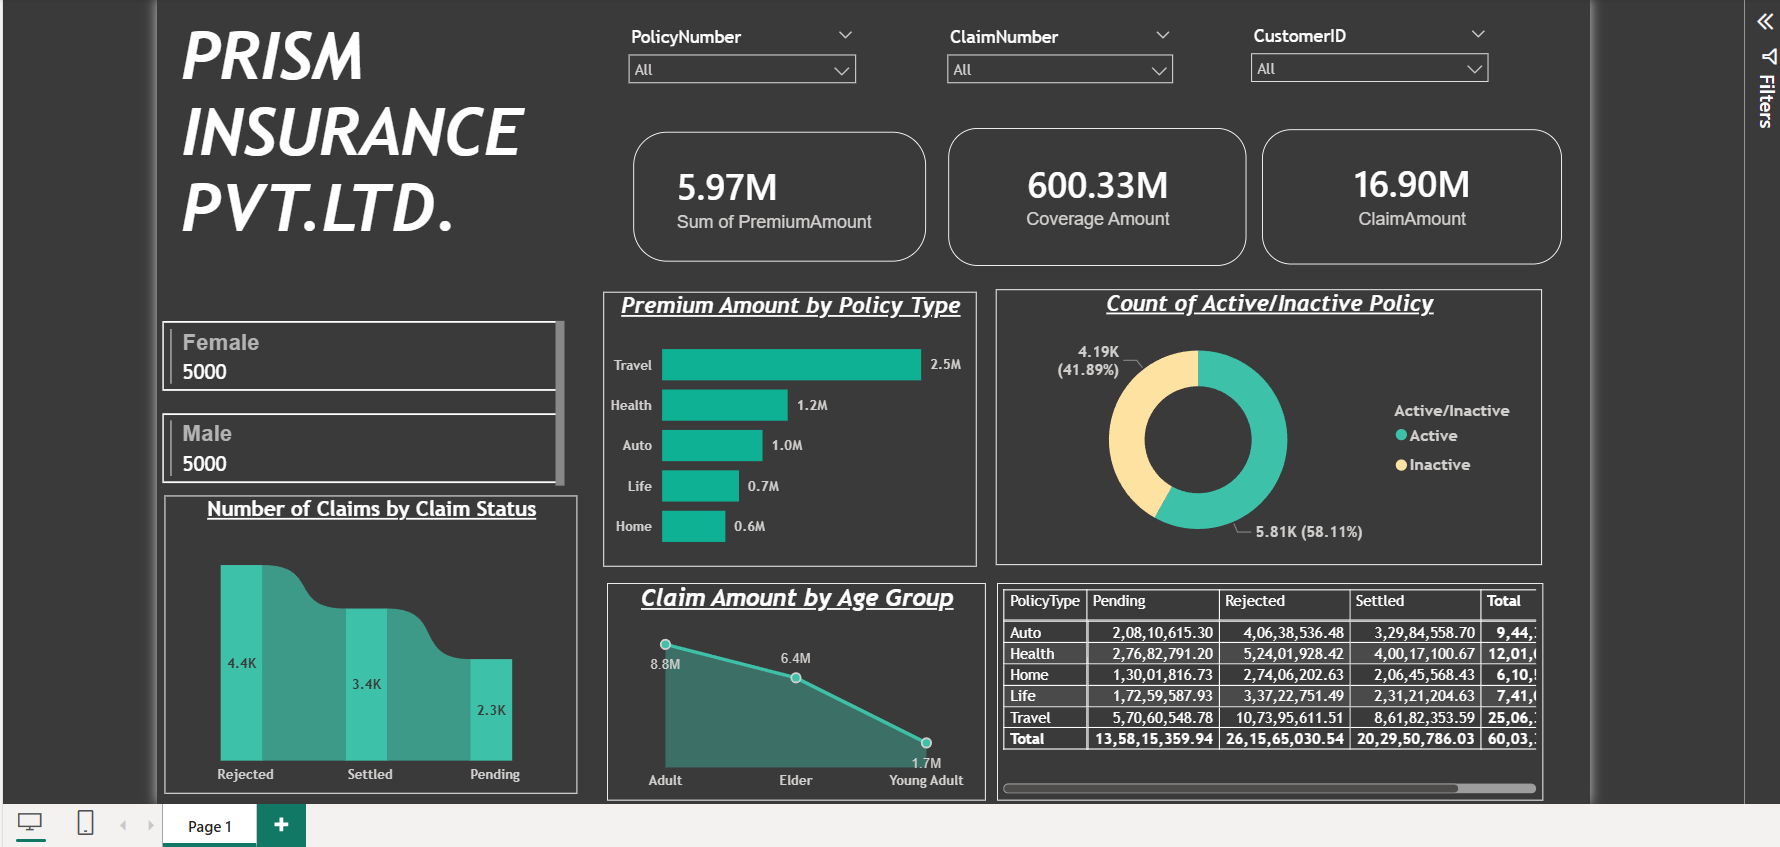

What the dashboard file says about the page in this screenshot:
{"tool":"powerbi","page":{"name":"Page 1","canvas":[1280,720],"ordinal":0},"visuals":[{"type":"slicer","fields":{"Values":["InsuranceData.PolicyNumber"]},"box":[410.5,19.8,223.3,81.4],"z":0},{"type":"slicer","fields":{"Values":["InsuranceData.ClaimNumber"]},"box":[696,20.5,222.1,81.4],"z":1000},{"type":"slicer","fields":{"Values":["InsuranceData.CustomerID"]},"box":[967.4,19.3,232.6,81.4],"z":2000},{"type":"textbox","box":[17.2,12.8,368.6,226.7],"z":3000},{"type":"cardVisual","fields":{"Data":["Sum(InsuranceData.CoverageAmount)"]},"box":[707,116,266.3,123.5],"z":4000},{"type":"cardVisual","fields":{"Data":["Sum(InsuranceData.PremiumAmount)"]},"box":[425.6,119.8,261.6,116.3],"z":5000},{"type":"cardVisual","fields":{"Data":["Sum(InsuranceData.ClaimAmount)"]},"box":[987.2,117.4,267.9,120.9],"z":6000},{"type":"multiRowCard","fields":{"Values":["InsuranceData.Gender","CountNonNull(InsuranceData.Gender)"]},"box":[0,284,368.6,168.6],"z":7000},{"type":"ribbonChart","title":"Number of Claims  by Claim Status","fields":{"Category":["InsuranceData.ClaimStatus"],"Y":["CountNonNull(InsuranceData.ClaimStatus)"]},"box":[6.5,444,368.6,266.3],"z":8000},{"type":"barChart","title":"Premium Amount by Policy Type","fields":{"Category":["InsuranceData.PolicyType"],"Y":["Sum(InsuranceData.PremiumAmount)"]},"box":[398.4,262.8,333.7,245.3],"z":9000},{"type":"lineChart","title":" Claim Amount by Age Group ","fields":{"Category":["InsuranceData.Age Group "],"Y":["Sum(InsuranceData.ClaimAmount)"]},"box":[402.3,522.6,338.4,194.2],"z":10000},{"type":"donutChart","title":"Count of Active/Inactive Policy","fields":{"Category":["InsuranceData.Active/Inactive"],"Y":["CountNonNull(InsuranceData.Active/Inactive)"]},"box":[749.8,260,488.4,246.5],"z":11000},{"type":"pivotTable","fields":{"Values":["Sum(InsuranceData.CoverageAmount)"],"Rows":["InsuranceData.PolicyType"],"Columns":["InsuranceData.ClaimStatus"]},"box":[750,523,488,194],"z":12000}]}

Visuals, with their boxes on the page's 1280x720 design canvas (x1, y1, x2, y2). These are canvas units, not pixel positions in the 1780x847 screenshot, which may show the page scaled, cropped or inside an application window:
slicer - InsuranceData.PolicyNumber: <box>410,20,634,101</box>
slicer - InsuranceData.ClaimNumber: <box>696,20,918,102</box>
slicer - InsuranceData.CustomerID: <box>967,19,1200,101</box>
textbox: <box>17,13,386,240</box>
cardVisual - Sum(InsuranceData.CoverageAmount): <box>707,116,973,240</box>
cardVisual - Sum(InsuranceData.PremiumAmount): <box>426,120,687,236</box>
cardVisual - Sum(InsuranceData.ClaimAmount): <box>987,117,1255,238</box>
multiRowCard - InsuranceData.Gender x CountNonNull(InsuranceData.Gender): <box>0,284,369,453</box>
"Number of Claims  by Claim Status" ribbonChart: <box>6,444,375,710</box>
"Premium Amount by Policy Type" barChart: <box>398,263,732,508</box>
" Claim Amount by Age Group " lineChart: <box>402,523,741,717</box>
"Count of Active/Inactive Policy" donutChart: <box>750,260,1238,506</box>
pivotTable - Sum(InsuranceData.CoverageAmount) x InsuranceData.PolicyType: <box>750,523,1238,717</box>
